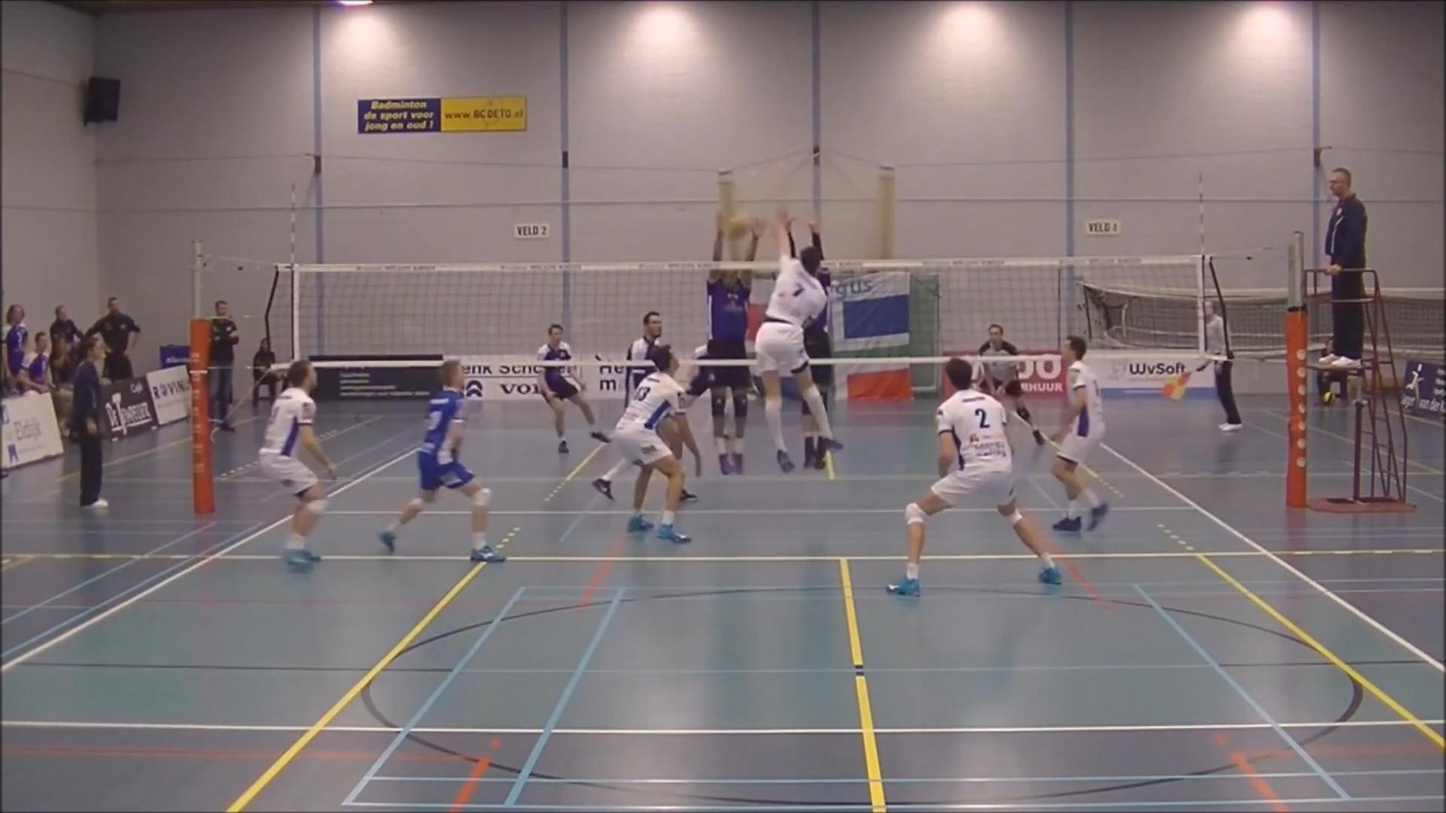Attack: (744, 206, 842, 466)
Block: (703, 206, 767, 469), (785, 201, 828, 261)
Player: (888, 358, 1060, 595), (379, 359, 505, 562), (258, 360, 335, 571), (612, 345, 690, 542), (1051, 336, 1108, 531), (978, 323, 1045, 445), (538, 367, 608, 453), (623, 311, 661, 397)
ball: (723, 212, 751, 242)
